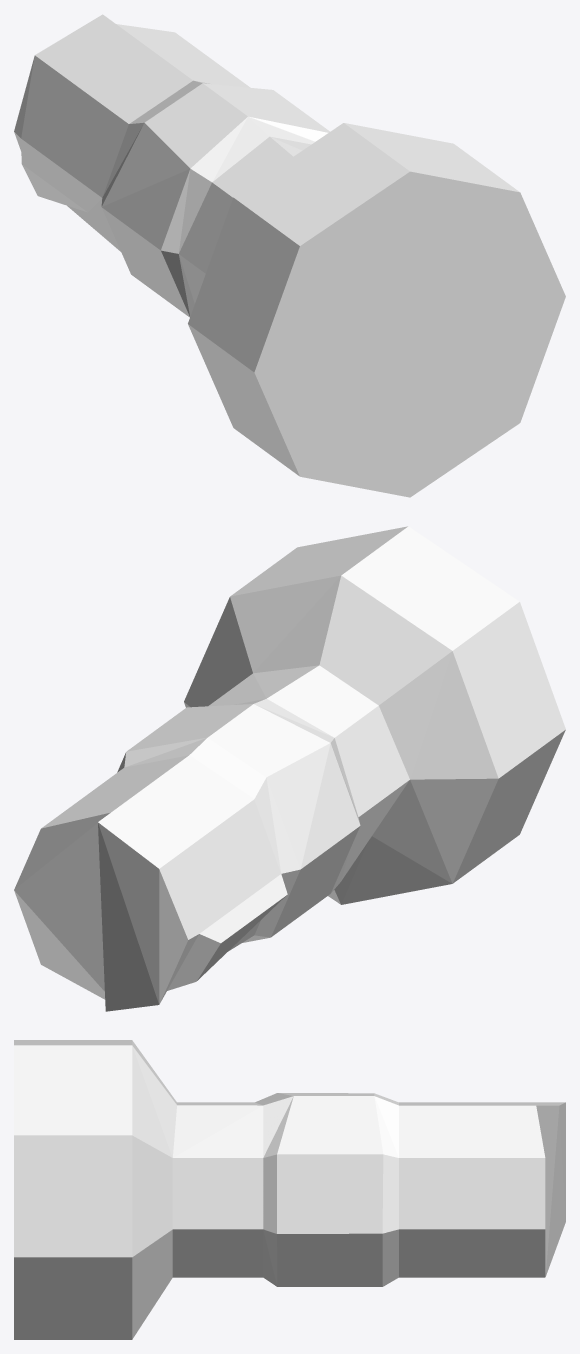
Rendered from venice_col_obj_7.fbx.
3 views of the same model, one above another, from view 1: azimuth 30°, elevation 25°; view 2: azimuth 150°, elevation 25°; view 3: azimuth 270°, elevation 25° (orthographic). The views are drawn at different scales.
Parts seen in each view (by area): view 1: Cylinder.046; view 2: Cylinder.046; view 3: Cylinder.046.
Part boxes in pixels (x1=…): Cylinder.046: x1=14, y1=14, x2=565, y2=497; Cylinder.046: x1=14, y1=526, x2=565, y2=1011; Cylinder.046: x1=14, y1=1040, x2=565, y2=1339.
Size of the model in its own units: 288 by 288 by 497.
